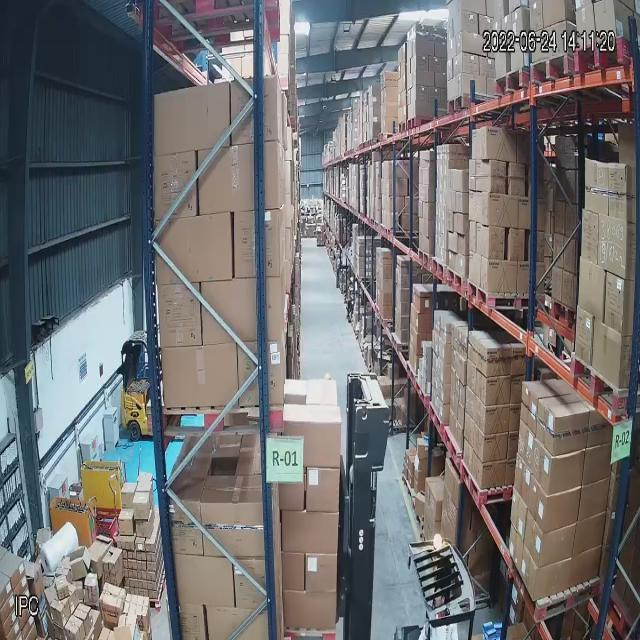box: (162, 349, 239, 408), (203, 283, 281, 338), (157, 223, 232, 279), (155, 93, 232, 145), (176, 555, 236, 609), (202, 504, 265, 555), (159, 285, 203, 346), (282, 511, 338, 555), (530, 503, 577, 553), (155, 157, 196, 214), (540, 399, 587, 447), (534, 474, 580, 522), (537, 438, 581, 484), (285, 593, 335, 629), (595, 317, 621, 381), (527, 548, 572, 584), (308, 469, 338, 515), (581, 259, 604, 317), (586, 160, 609, 212), (304, 555, 336, 590), (99, 582, 126, 618), (489, 194, 518, 226), (487, 130, 516, 162), (488, 260, 516, 293), (67, 547, 93, 577), (583, 211, 598, 263), (578, 308, 592, 362), (487, 349, 511, 374), (486, 379, 510, 403), (484, 407, 508, 431), (484, 435, 507, 459), (490, 160, 506, 192), (134, 492, 151, 521), (510, 163, 525, 195), (489, 227, 504, 259), (483, 464, 504, 485), (85, 572, 99, 603), (54, 574, 71, 599), (461, 33, 481, 54), (511, 230, 524, 262), (118, 512, 135, 536), (463, 52, 479, 74), (462, 11, 478, 33), (121, 483, 136, 504), (563, 272, 572, 307), (416, 39, 435, 55), (453, 170, 467, 191), (555, 202, 564, 234), (417, 70, 435, 86), (418, 313, 432, 333), (566, 138, 575, 169), (553, 267, 561, 301), (429, 56, 442, 73), (420, 293, 431, 310), (417, 54, 428, 70), (417, 87, 428, 101), (382, 250, 391, 266), (399, 179, 407, 196), (383, 279, 392, 294), (383, 265, 392, 279)
